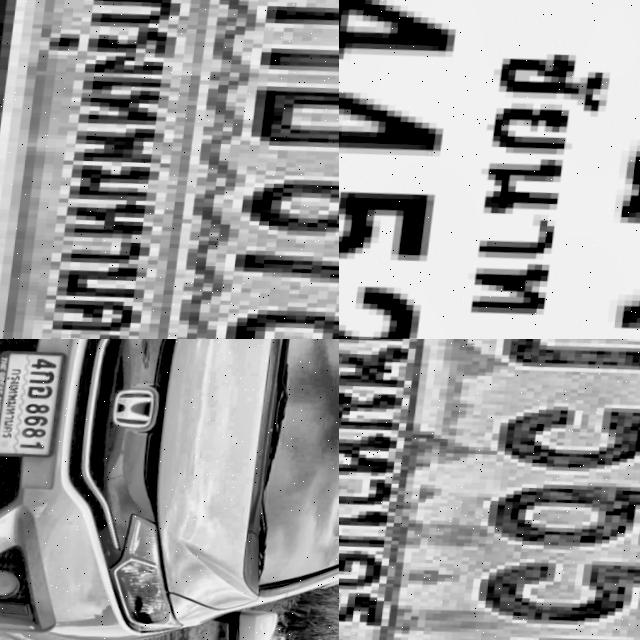license-plate: (0, 0, 339, 339), (339, 0, 640, 339), (339, 339, 640, 640), (0, 347, 78, 460)
